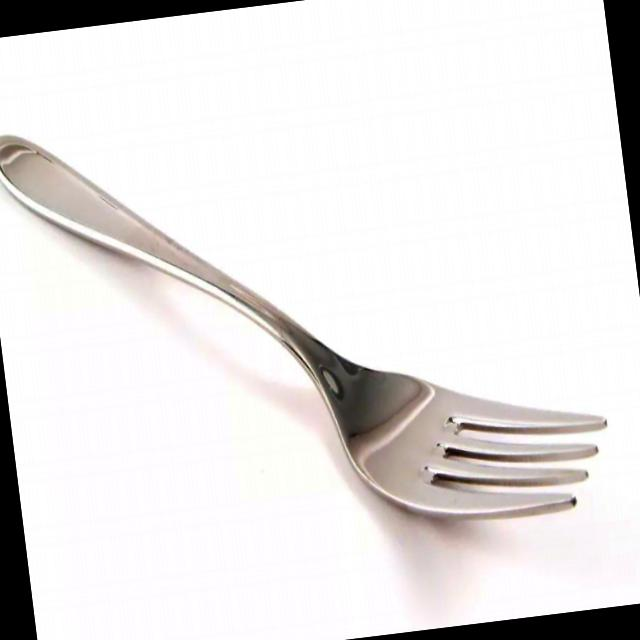fork: (0, 66, 618, 579)
